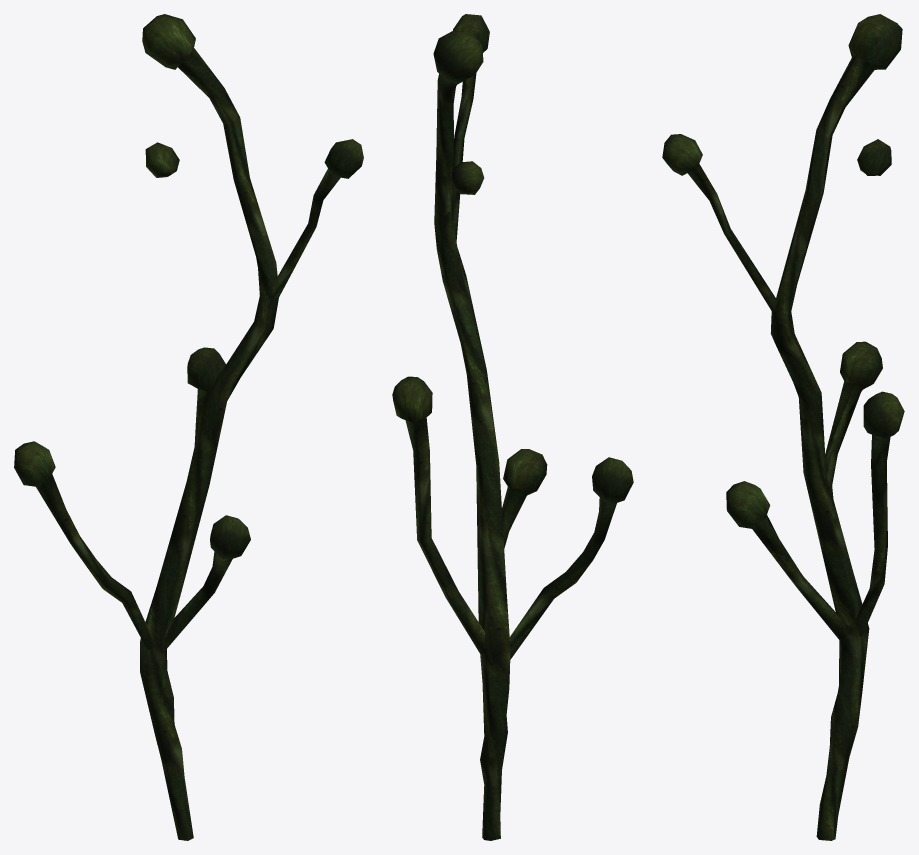
Rendered from PondWeed.008_FBX_still.fbx.
The picture shows the model from 3 angles, left to right: view 1: azimuth 30°, elevation 25°; view 2: azimuth 150°, elevation 25°; view 3: azimuth 270°, elevation 25°; orthographic projection. The views are drawn at different scales.
Parts seen in each view (by area): view 1: PondWeed.008_gameasset; view 2: PondWeed.008_gameasset; view 3: PondWeed.008_gameasset.
Boxes of the visible parts, <box> form: PondWeed.008_gameasset: <box>14,14,363,840</box>; PondWeed.008_gameasset: <box>392,14,633,840</box>; PondWeed.008_gameasset: <box>662,14,904,840</box>.
Size of the model in its own units: 4.61 by 13.61 by 3.63.
Materials: 1 (1 with a texture image).
